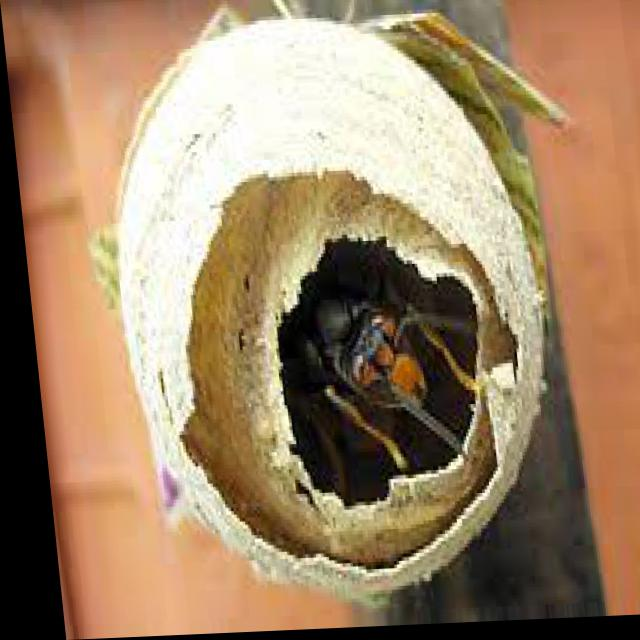Vespa Velutina: (262, 278, 483, 509)
